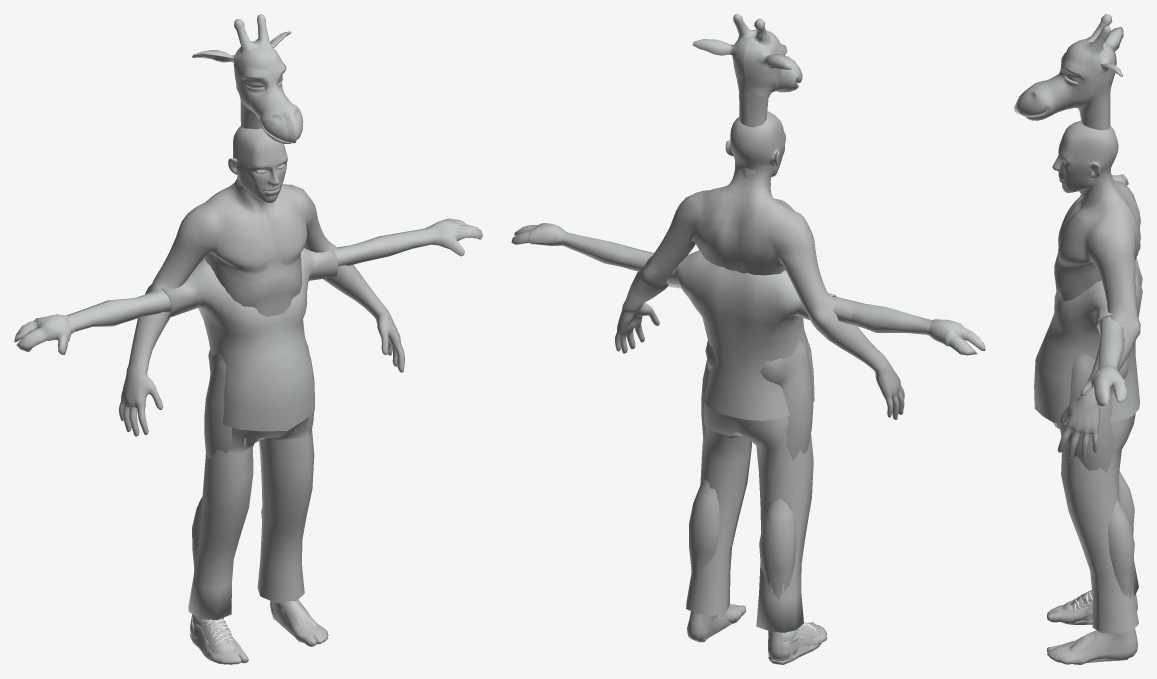
File: Giraffe_01.glb
The picture shows the model from 3 angles, left to right: view 1: azimuth 30°, elevation 25°; view 2: azimuth 150°, elevation 25°; view 3: azimuth 270°, elevation 25°; orthographic projection.
Visible parts, largest first — view 1: Avatar_Male_03, GIraffe_Shirt, GIraffe_Shorts.001, GIraffe_Shorts, GIraffe_Original_old, Giraffe_Base, Giraffe_Original, Giraffe_Basic.001; view 2: Avatar_Male_03, GIraffe_Shirt, GIraffe_Shorts, GIraffe_Shorts.001, GIraffe_Original_old, Giraffe_Base, Giraffe_Original, Giraffe_Basic.001; view 3: Avatar_Male_03, GIraffe_Shorts.001, GIraffe_Shirt, Giraffe_Base, Giraffe_Original, Giraffe_Basic.001, GIraffe_Original_old.
Part boxes in pixels (bbox=[...]): Avatar_Male_03: bbox=[119, 126, 404, 664]; GIraffe_Shirt: bbox=[161, 247, 338, 431]; GIraffe_Shorts.001: bbox=[257, 416, 314, 603]; GIraffe_Shorts: bbox=[188, 427, 277, 619]; GIraffe_Original_old: bbox=[14, 19, 296, 659]; Giraffe_Base: bbox=[19, 14, 482, 340]; Giraffe_Original: bbox=[54, 14, 482, 636]; Giraffe_Basic.001: bbox=[20, 14, 482, 339]; Avatar_Male_03: bbox=[615, 111, 904, 659]; GIraffe_Shirt: bbox=[666, 250, 836, 420]; GIraffe_Shorts: bbox=[733, 416, 813, 632]; GIraffe_Shorts.001: bbox=[686, 403, 751, 615]; GIraffe_Original_old: bbox=[743, 18, 985, 661]; Giraffe_Base: bbox=[511, 14, 968, 348]; Giraffe_Original: bbox=[512, 14, 930, 642]; Giraffe_Basic.001: bbox=[511, 14, 928, 326]; Avatar_Male_03: bbox=[1047, 120, 1140, 664]; GIraffe_Shorts.001: bbox=[1052, 413, 1138, 633]; GIraffe_Shirt: bbox=[1034, 258, 1142, 424]; Giraffe_Base: bbox=[1016, 23, 1127, 406]; Giraffe_Original: bbox=[1016, 21, 1128, 662]; Giraffe_Basic.001: bbox=[1017, 22, 1125, 404]; GIraffe_Original_old: bbox=[1014, 14, 1128, 609].
Bounding box in the file's own units: 1.8 × 2.3 × 0.4326.
Materials: 3 (2 with a texture image).
